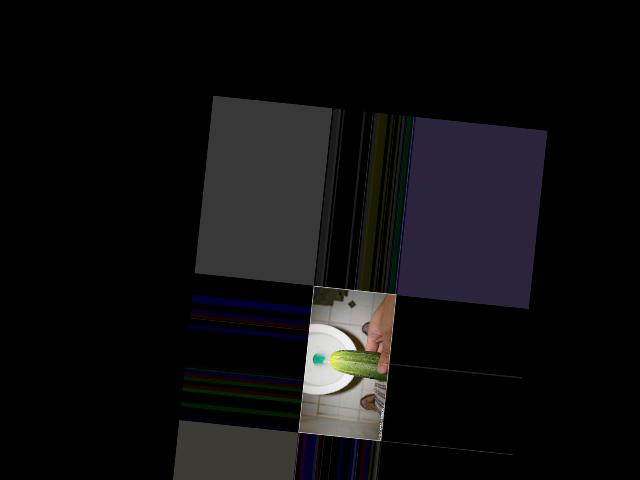cucumber: (328, 348, 390, 381)
